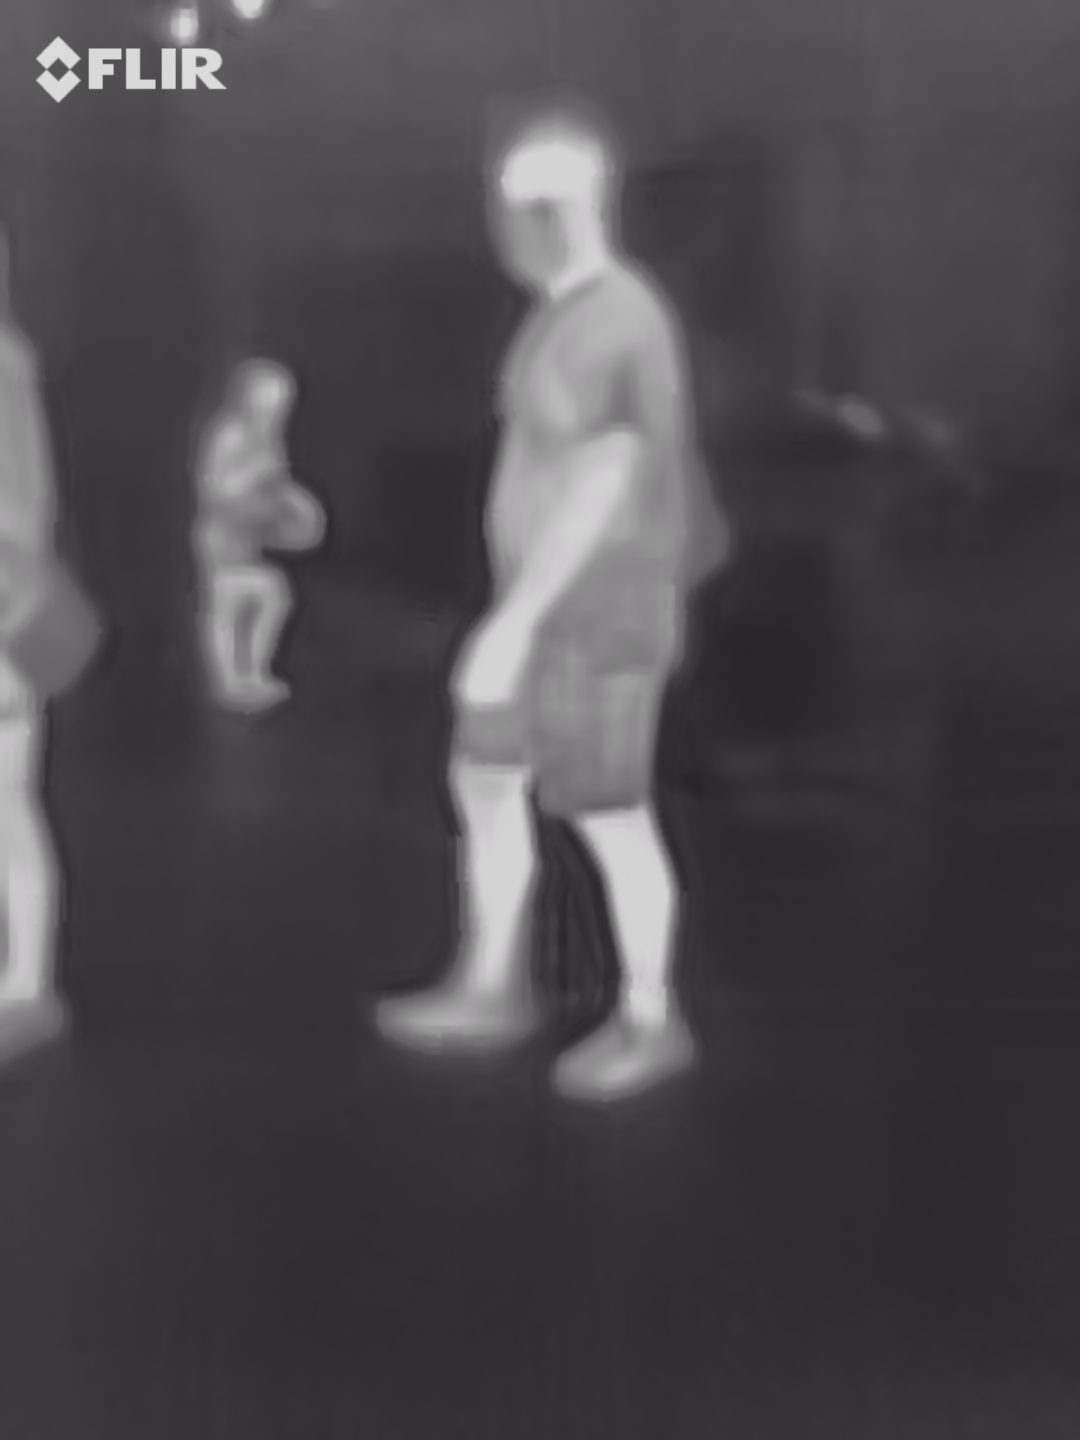head: (485, 125, 627, 297)
